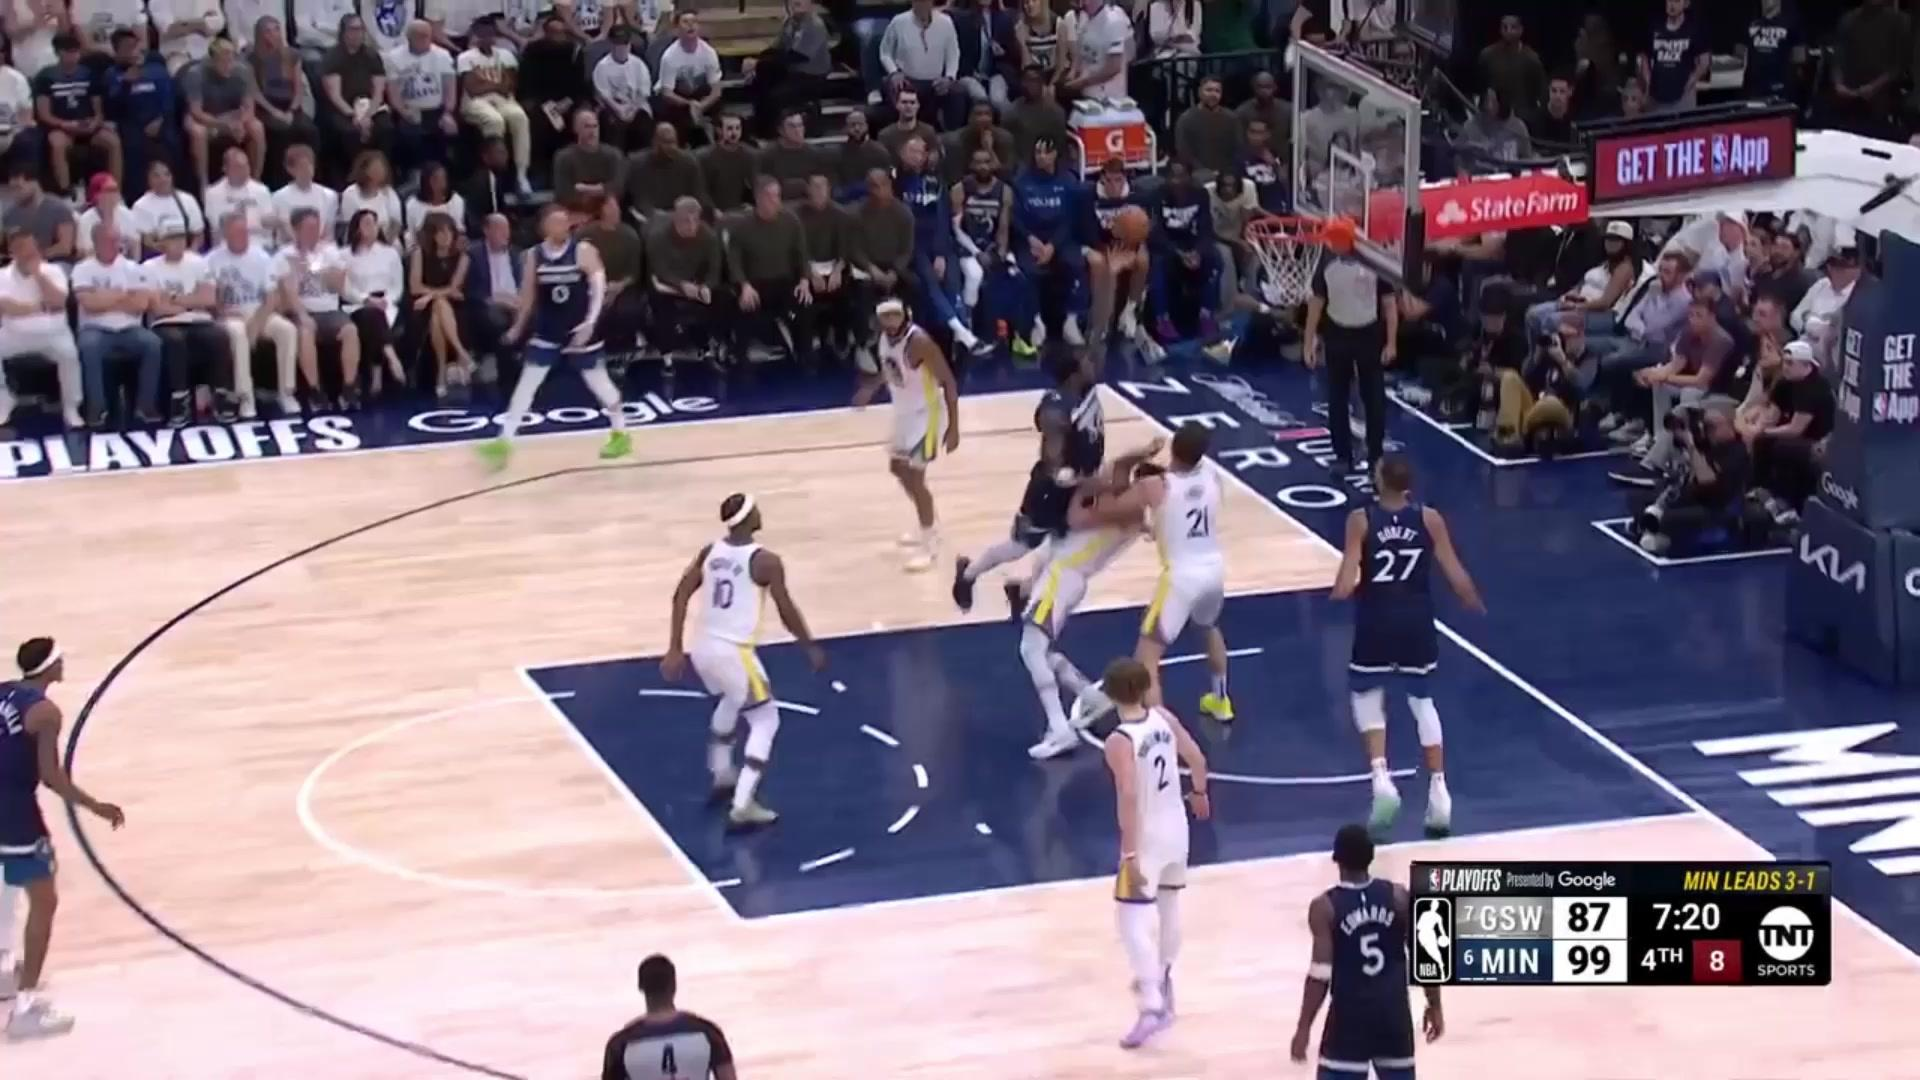foul: (939, 294, 1189, 741)
